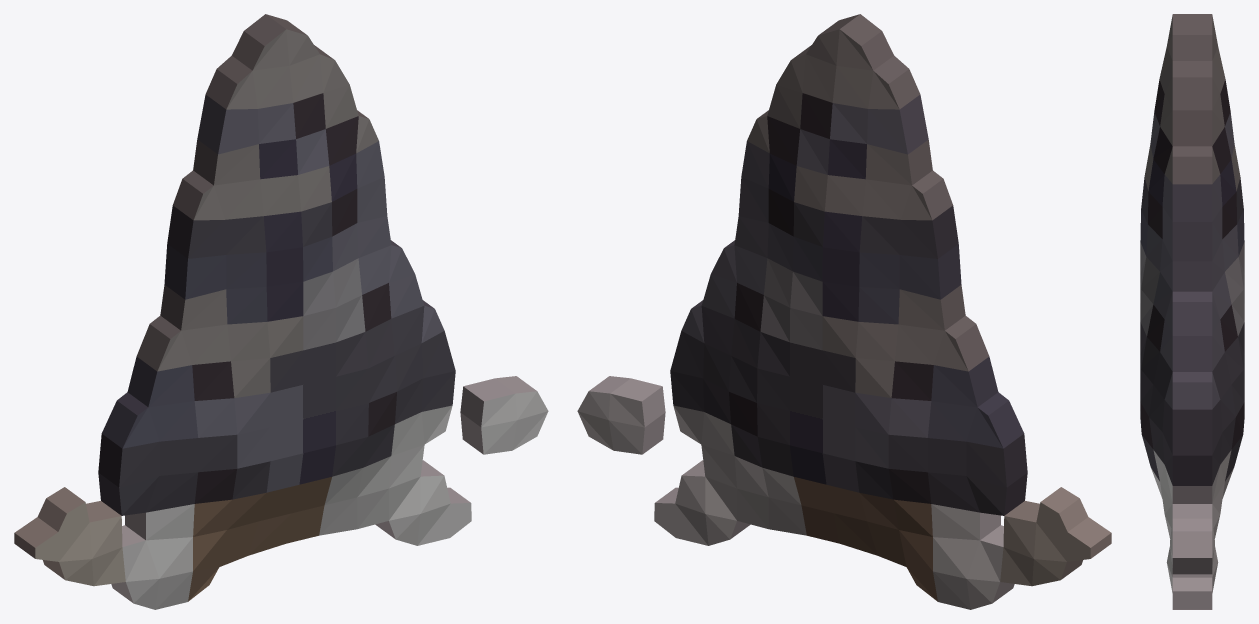
Rendered from rock_cluster.glb.
The picture shows the model from 3 angles, left to right: view 1: azimuth 30°, elevation 25°; view 2: azimuth 150°, elevation 25°; view 3: azimuth 270°, elevation 25°; orthographic projection. The views are drawn at different scales.
Visible parts, largest first — view 1: rock_cluster; view 2: rock_cluster; view 3: rock_cluster.
Boxes of the visible parts, x1,y1,x2,y2 form: rock_cluster: [14, 14, 548, 609]; rock_cluster: [577, 14, 1111, 609]; rock_cluster: [1140, 14, 1244, 609].
Bounding box in the file's own units: 0.9788 × 1 × 0.1813.
1 material, 1 textured.
